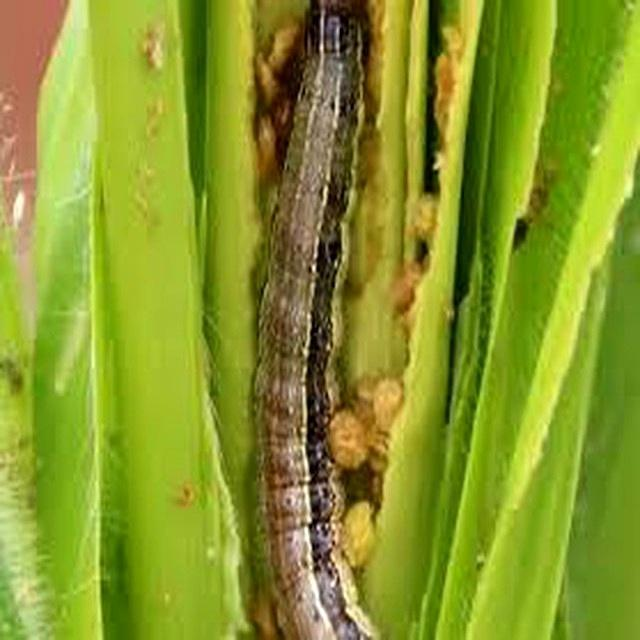gusano_cogollero: (250, 0, 386, 640)
